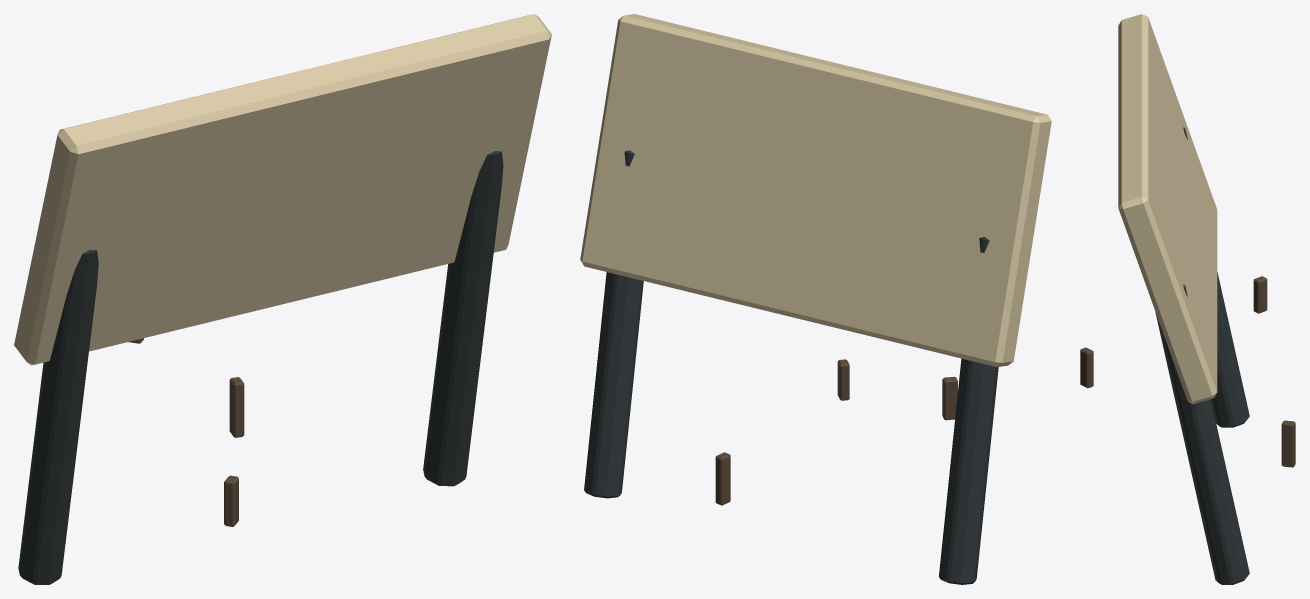
Rendered from runtime.glb.
The picture shows the model from 3 angles, left to right: view 1: azimuth 30°, elevation 25°; view 2: azimuth 150°, elevation 25°; view 3: azimuth 270°, elevation 25°; orthographic projection. The views are drawn at different scales.
Visible parts, largest first — view 1: eiffel-historic-information-v08_nocol; view 2: eiffel-historic-information-v08_nocol; view 3: eiffel-historic-information-v08_nocol.
Boxes of the visible parts, left/top/right/bottom form: eiffel-historic-information-v08_nocol: left=14, top=14, right=551, bottom=584; eiffel-historic-information-v08_nocol: left=580, top=14, right=1051, bottom=584; eiffel-historic-information-v08_nocol: left=1080, top=14, right=1295, bottom=584.
Size of the model in its own units: 1.7 by 1.68 by 0.8278.
